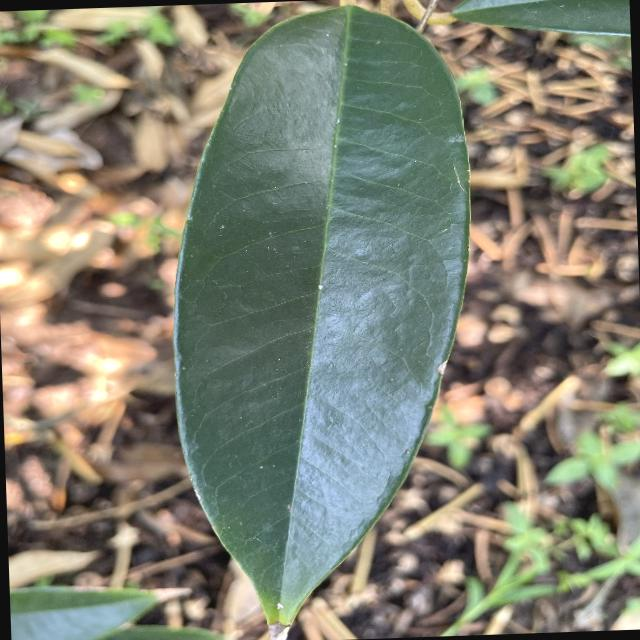No Disease: (147, 0, 493, 639)
